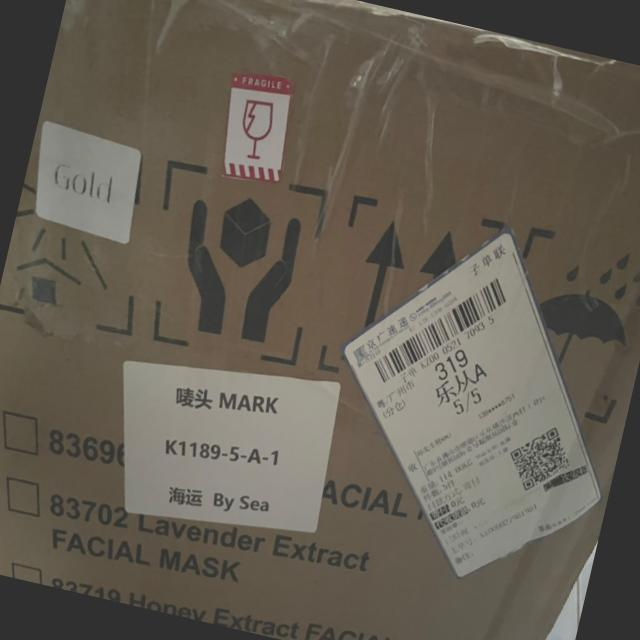carton_box: (0, 0, 640, 640)
export_mark_label: (344, 232, 597, 584), (136, 363, 329, 534)
fragile_label: (202, 61, 316, 198)
handle_with_care_label: (120, 144, 356, 383)
keep_dry_label: (498, 222, 640, 415)
this_side_up_label: (310, 168, 520, 400)
